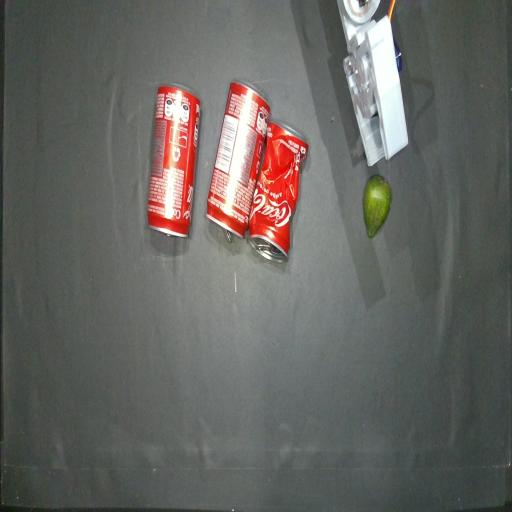higo: (363, 174, 391, 238)
lata: (206, 81, 270, 241), (147, 83, 201, 237)
lata_defectuoso: (249, 122, 308, 262)
